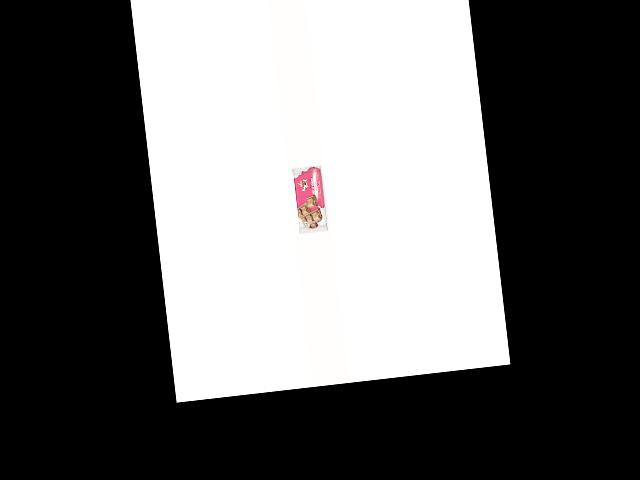chocolate: (289, 162, 333, 235)
